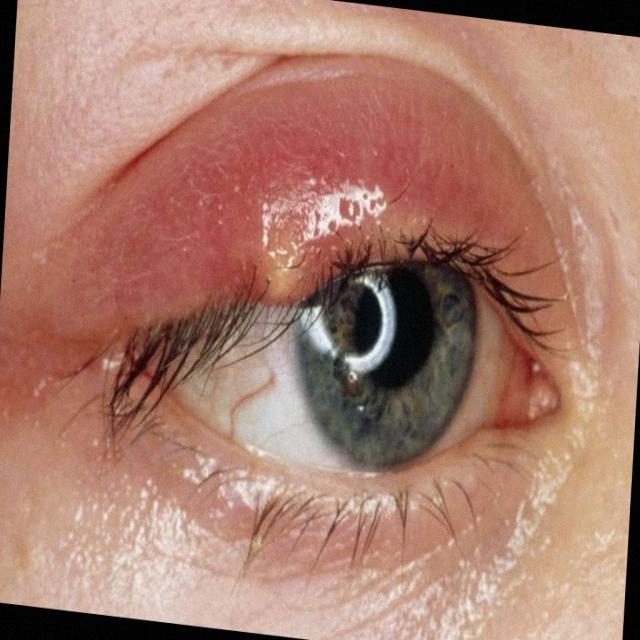Chalazion: (75, 79, 579, 607)
